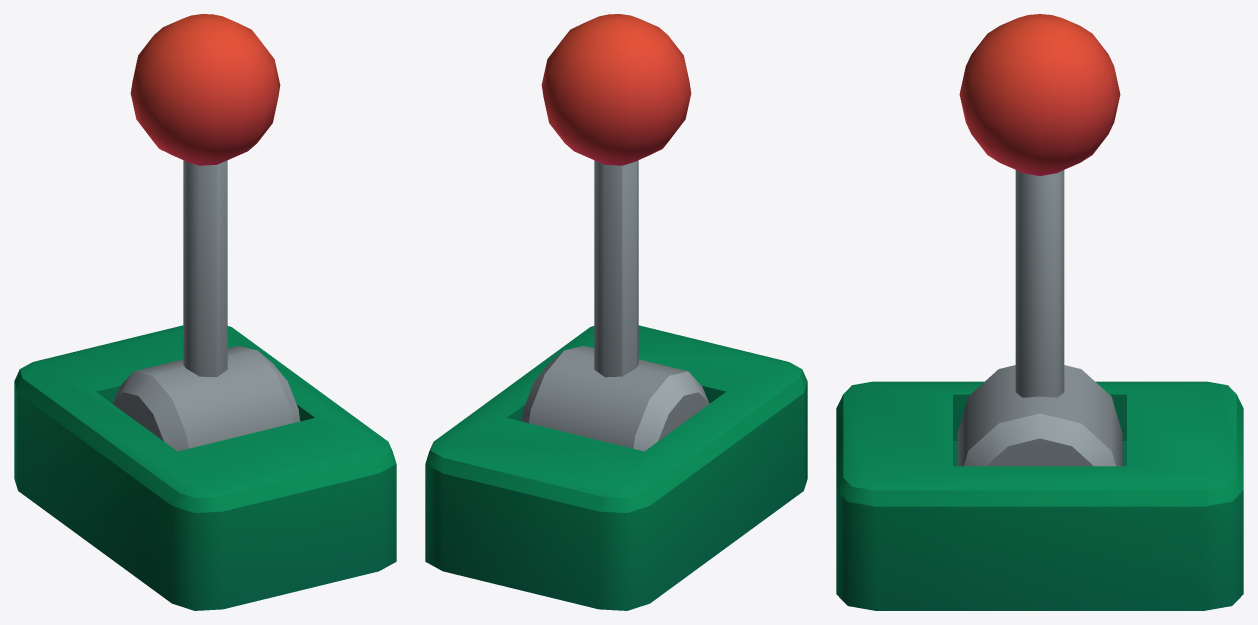
Rendered from levier.glb.
3 views of the same model, side by side, from view 1: azimuth 30°, elevation 25°; view 2: azimuth 150°, elevation 25°; view 3: azimuth 270°, elevation 25° (orthographic). The views are drawn at different scales.
Visible parts, largest first — view 1: lever_floor_base_green, lever_floor_green; view 2: lever_floor_base_green, lever_floor_green; view 3: lever_floor_base_green, lever_floor_green.
Part boxes in pixels (left/top/right/bottom): lever_floor_base_green: left=14, top=325, right=396, bottom=610; lever_floor_green: left=112, top=14, right=300, bottom=451; lever_floor_base_green: left=425, top=325, right=807, bottom=610; lever_floor_green: left=521, top=14, right=709, bottom=451; lever_floor_base_green: left=836, top=381, right=1243, bottom=610; lever_floor_green: left=957, top=14, right=1122, bottom=466.
Bounding box in the file's own units: 0.8 × 1.73 × 1.2.
1 material, 1 textured.
